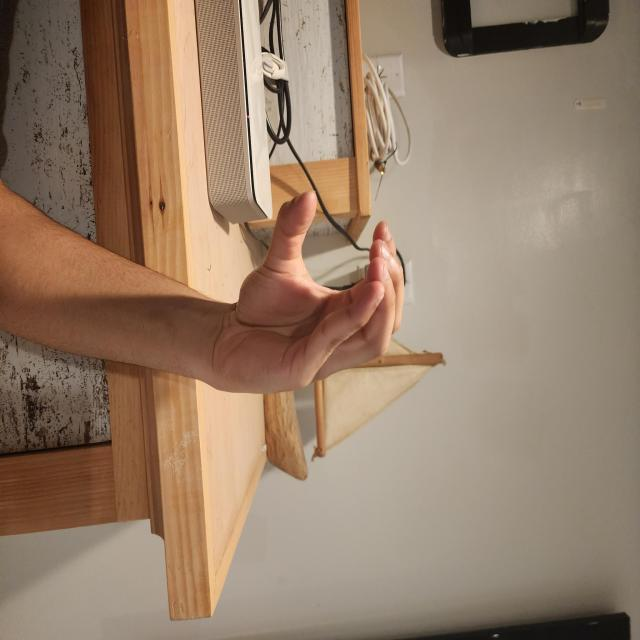C: (300, 306, 462, 576)
